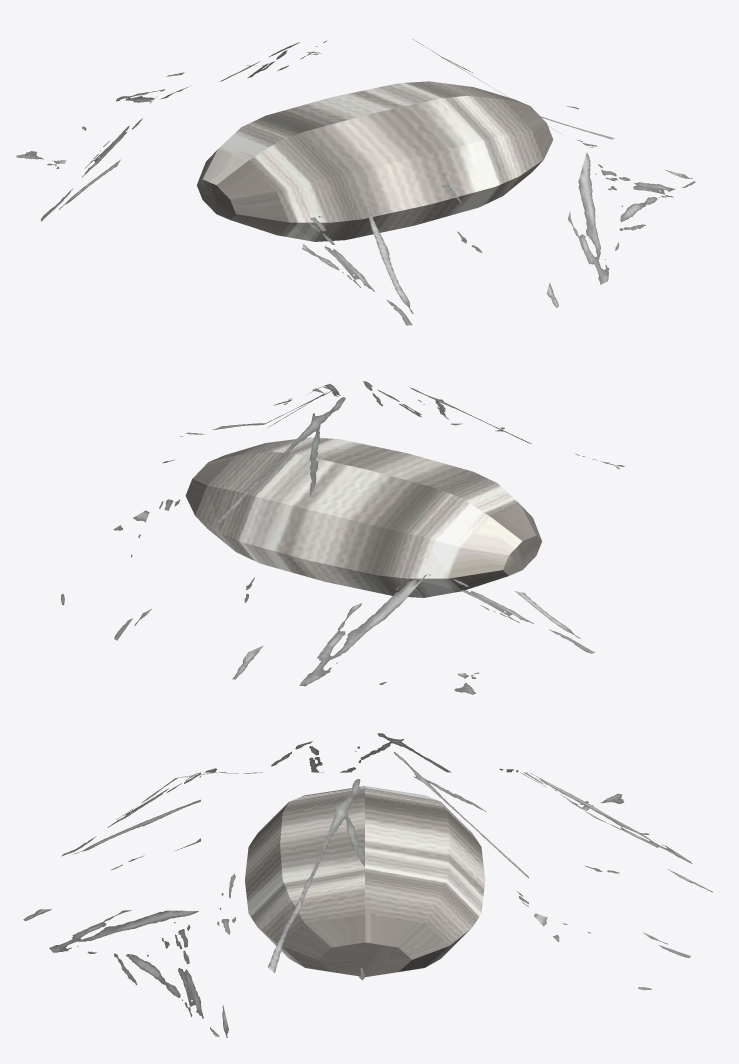
Rendered from HK_ITEM_PAJECZYNA.glb.
The picture shows the model from 3 angles, top to bottom: view 1: azimuth 30°, elevation 25°; view 2: azimuth 150°, elevation 25°; view 3: azimuth 270°, elevation 25°; orthographic projection. The views are drawn at different scales.
Parts seen in each view (by area): view 1: HK_ITEM_PAJECZYNA; view 2: HK_ITEM_PAJECZYNA; view 3: HK_ITEM_PAJECZYNA.
Part boxes in pixels (x1,y1,x2,y2): HK_ITEM_PAJECZYNA: (16, 39, 695, 325); HK_ITEM_PAJECZYNA: (61, 381, 624, 694); HK_ITEM_PAJECZYNA: (23, 733, 712, 1037).
Bounding box in the file's own units: 0.4222 × 0.1353 × 0.4317.
Materials: 2 (2 with a texture image).
